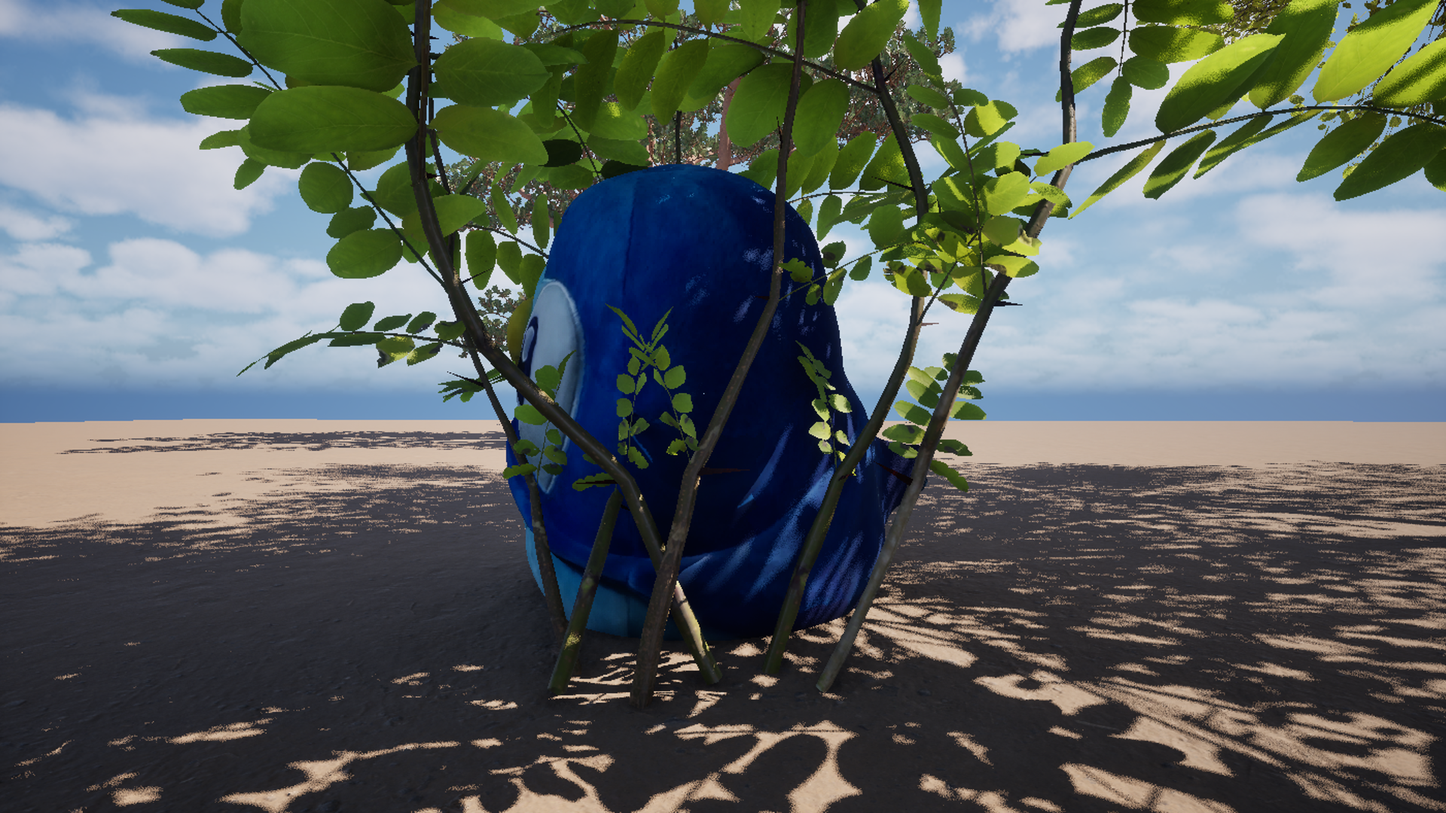Piplup: (301, 0, 1065, 813)
